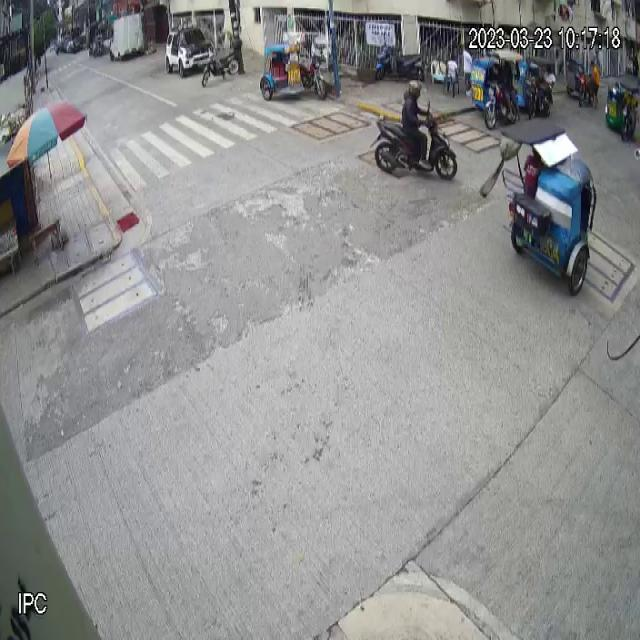Motorcycle: (371, 98, 458, 182)
Tricycle: (499, 117, 596, 296), (260, 31, 328, 101), (471, 49, 524, 130)
